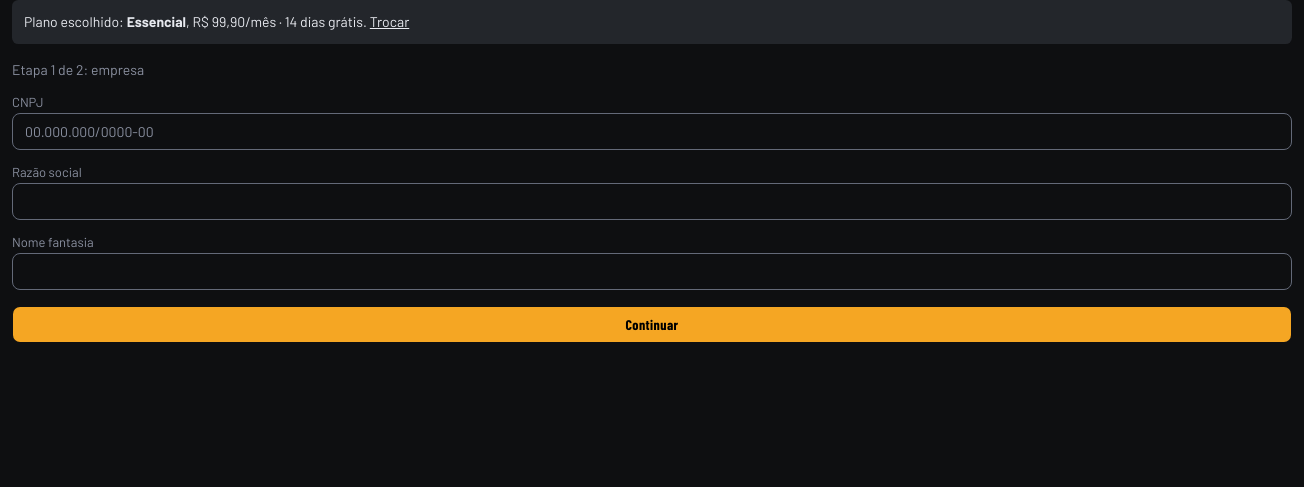
Test: CadastroForm › com a BrasilAPI fora, avisa e deixa preencher à mão
The width and height of the screenshot is (1304, 487).
Type "11222333000181" into the field labelled "CNPJ" at coordinates (652, 132), box [12, 113, 1292, 150]
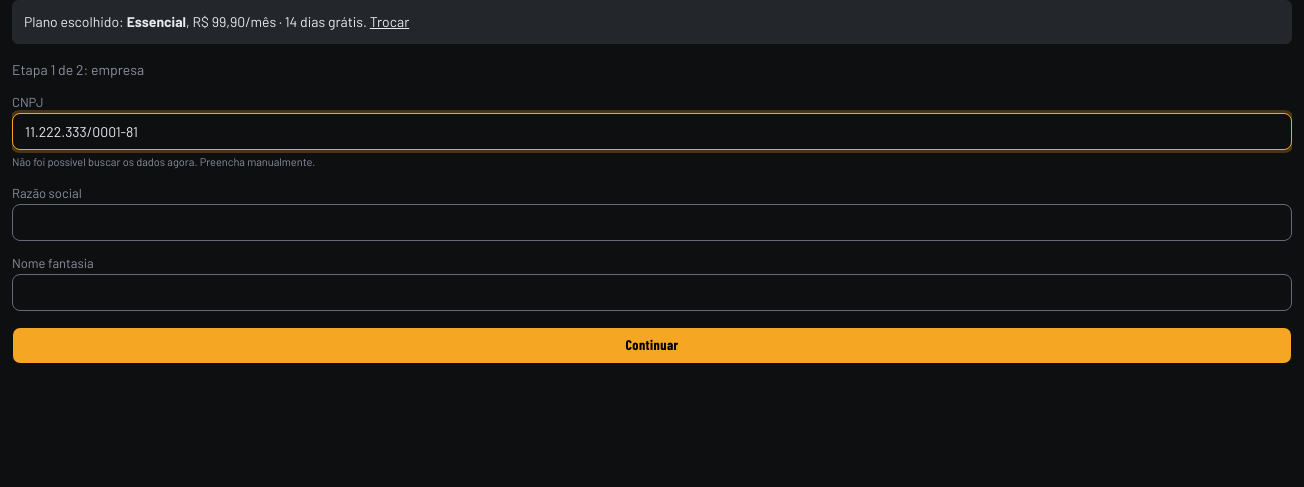
Check: the text "Não foi possível buscar os dados agora. Preencha manualmente." is shown, box [12, 155, 315, 168]
Type "Padaria Manual Ltda" into the field labelled "Razão social" at coordinates (652, 222), box [12, 204, 1292, 240]
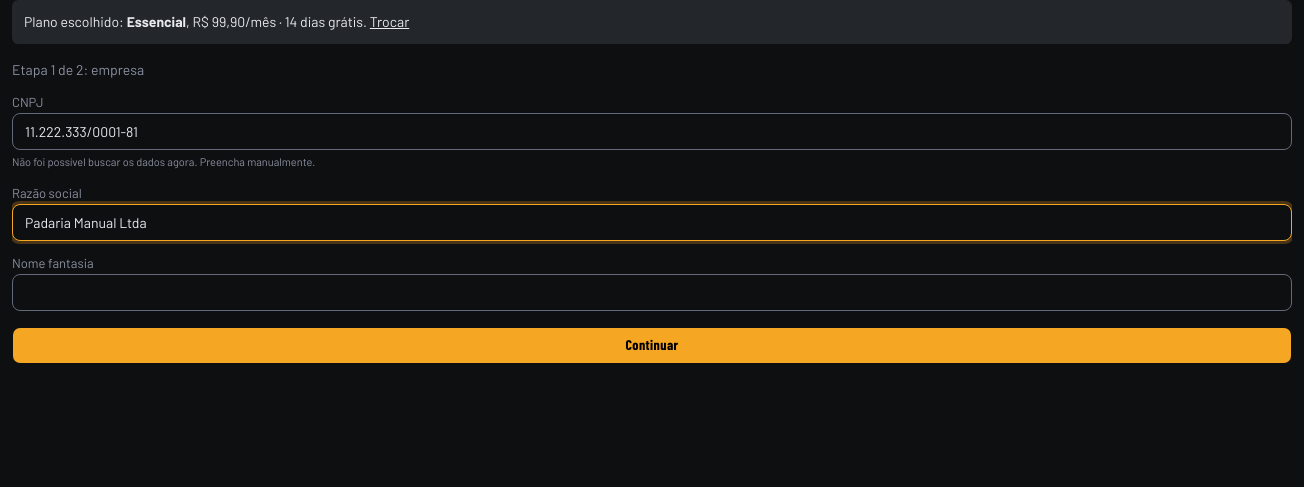
Click the button "Continuar" at coordinates (652, 345), box [12, 326, 1292, 364]
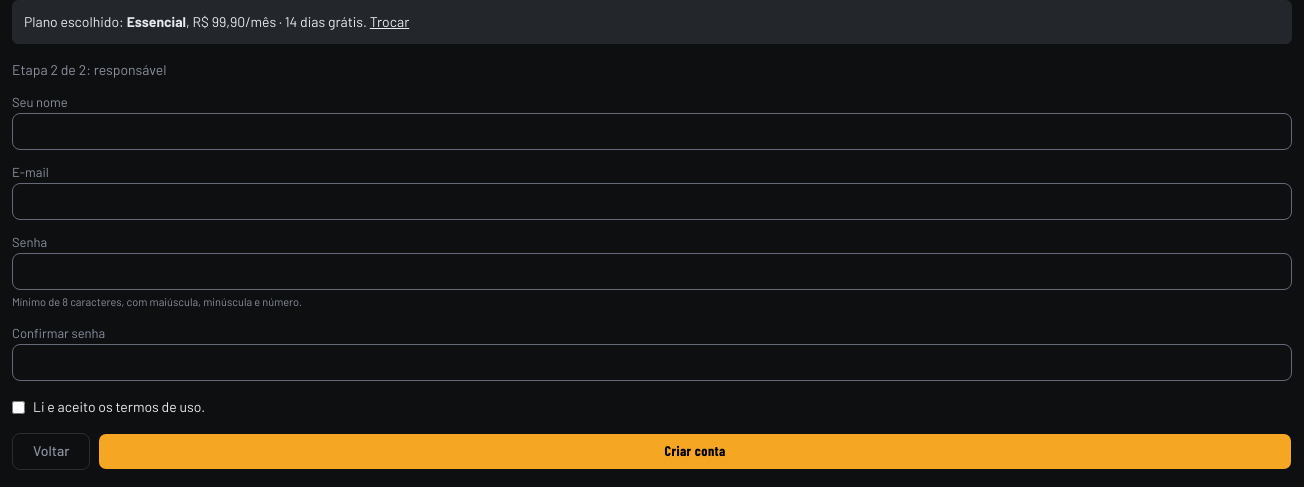
Check: the field labelled "Seu nome" is shown, box [12, 113, 1292, 150]
